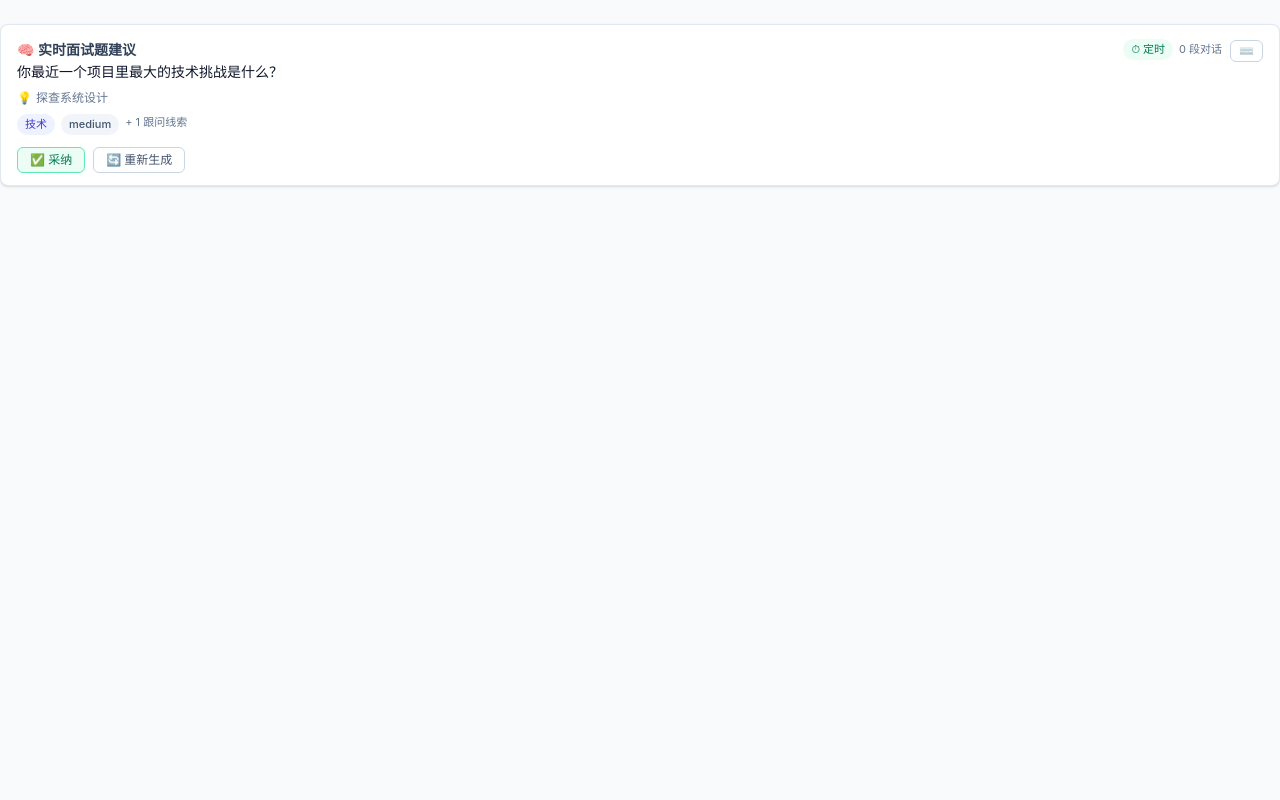
Scenario: RealtimeQuestionSuggester + keyboard hint › popover lists the three shortcuts after a click
Click the button with test id "rqs-help-toggle" at (1246, 51), box [1230,40,1263,62]
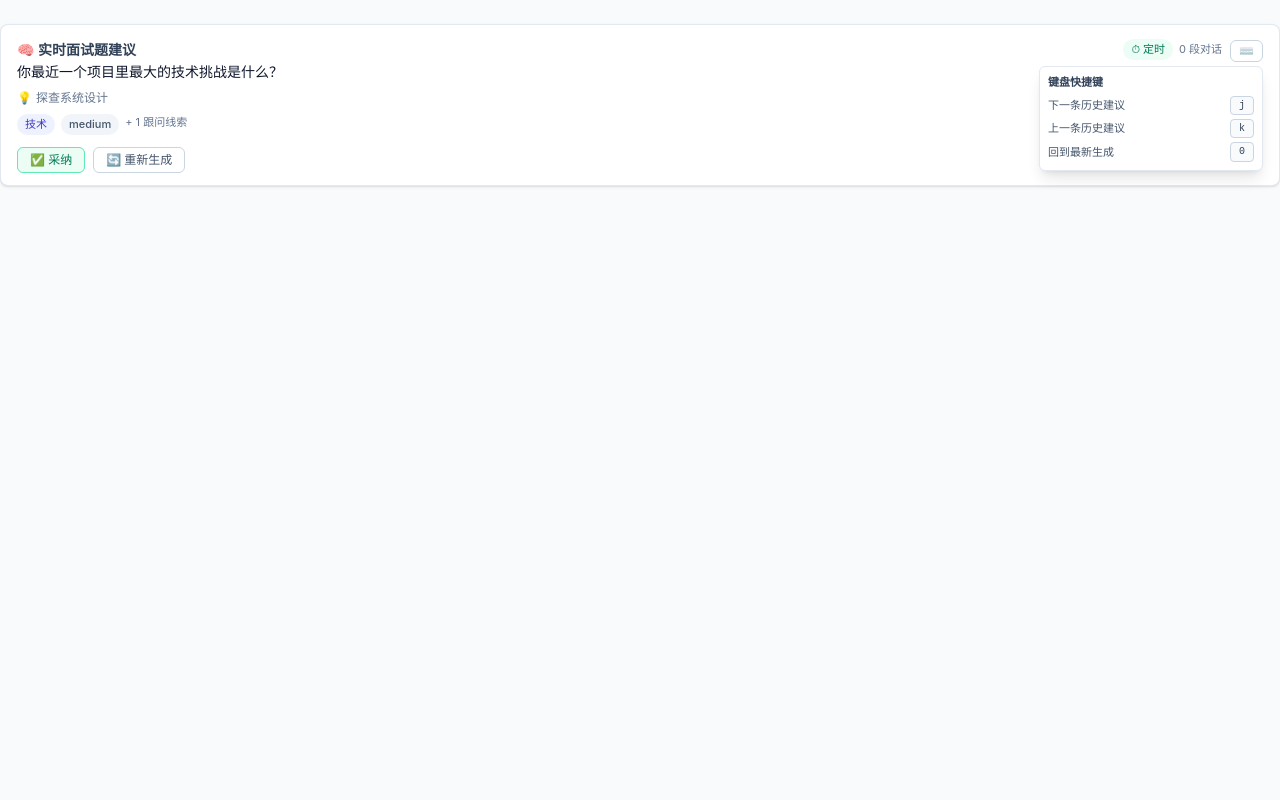
Expected: the dialog with test id "rqs-help-popover" is shown, [1039,66,1263,171]
Expected: the number of list items with test id "rqs-help-row" is 3, [1048,96,1254,115]; [1048,119,1254,138]; [1048,142,1254,162]
Expected: the dialog with test id "rqs-help-popover" shows "下一条历史建议", [1048,98,1125,112]
